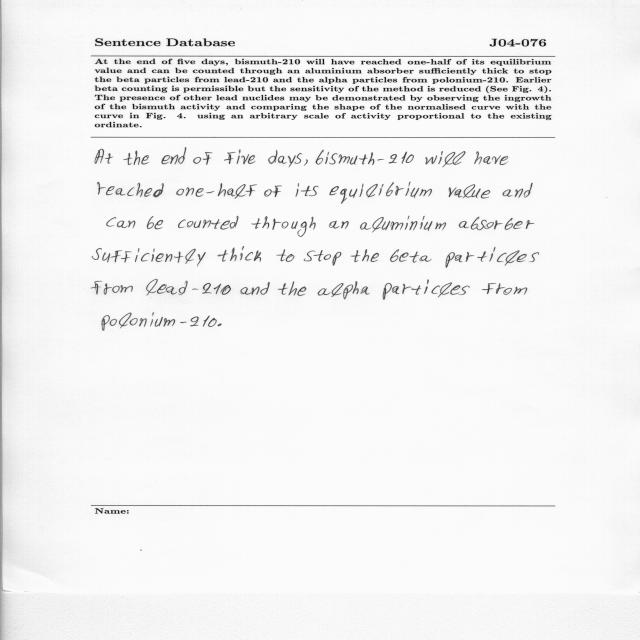word: (329, 182, 432, 204), (102, 313, 217, 331), (92, 248, 206, 266), (446, 247, 539, 268), (383, 279, 470, 300), (315, 150, 414, 165), (360, 216, 446, 233), (251, 216, 316, 237), (146, 280, 231, 296), (176, 183, 257, 199), (98, 182, 164, 197), (458, 217, 534, 230), (318, 282, 370, 300), (178, 216, 239, 230), (217, 246, 261, 262), (425, 151, 466, 167), (304, 250, 341, 266), (390, 249, 432, 263), (91, 281, 133, 295), (268, 150, 302, 167), (449, 185, 490, 199), (482, 283, 527, 295), (224, 150, 256, 165), (475, 151, 509, 165), (503, 183, 533, 198), (162, 148, 187, 165), (278, 281, 306, 296), (123, 150, 149, 165), (240, 282, 270, 295), (351, 249, 380, 262), (296, 183, 319, 197), (107, 217, 135, 228), (95, 149, 113, 164), (193, 152, 213, 165), (276, 249, 295, 262), (147, 216, 163, 229), (264, 186, 282, 197), (329, 221, 349, 230), (304, 159, 308, 166), (218, 324, 222, 326)
